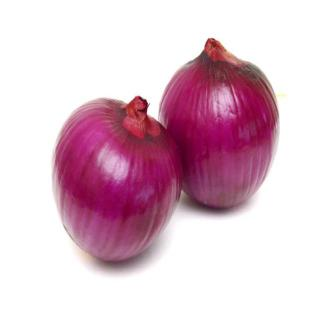Bawang Merah: (50, 96, 186, 268), (153, 38, 289, 210)
